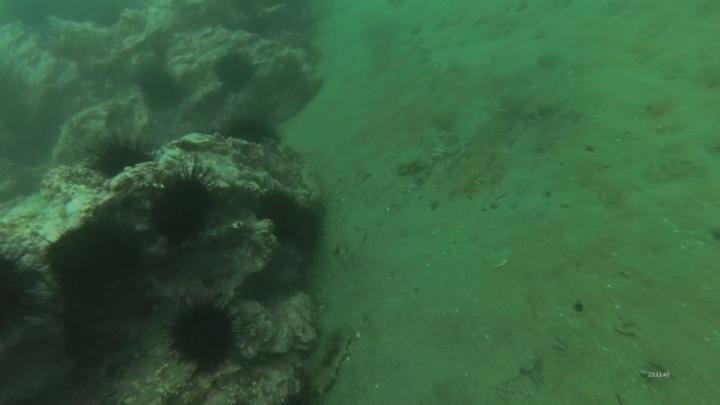echinus: (43, 218, 154, 335), (162, 294, 243, 376), (144, 165, 222, 247), (1, 246, 57, 347), (86, 131, 158, 182), (136, 64, 185, 112), (221, 112, 279, 147), (212, 48, 257, 92), (253, 186, 294, 234), (283, 205, 319, 242)
holothurian: (300, 319, 357, 401)
